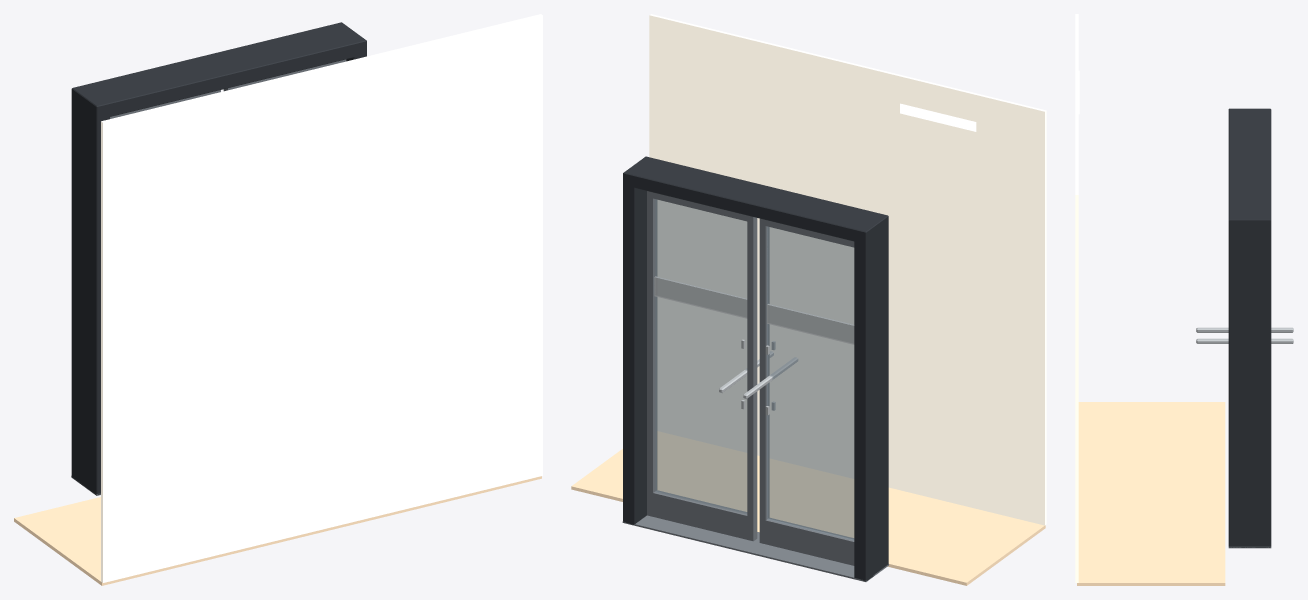
File: glass_door.glb
3 views of the same model, side by side, from view 1: azimuth 30°, elevation 25°; view 2: azimuth 150°, elevation 25°; view 3: azimuth 270°, elevation 25° (orthographic). The views are drawn at different scales.
Parts seen in each view (by area): view 1: Backdrop, DoorFrame; view 2: Backdrop, DoorLeaves, DoorFrame; view 3: Backdrop, DoorFrame, DoorLeaves.
Part boxes in pixels (box(x1,y1,x2,y2)): Backdrop: box(14, 14, 542, 585); DoorFrame: box(71, 22, 366, 495); Backdrop: box(571, 14, 1046, 585); DoorLeaves: box(647, 191, 854, 565); DoorFrame: box(622, 156, 888, 581); Backdrop: box(1075, 14, 1225, 585); DoorFrame: box(1228, 108, 1271, 548); DoorLeaves: box(1196, 327, 1293, 343).
Bounding box in the file's own units: 2.6 × 2.62 × 1.33.
